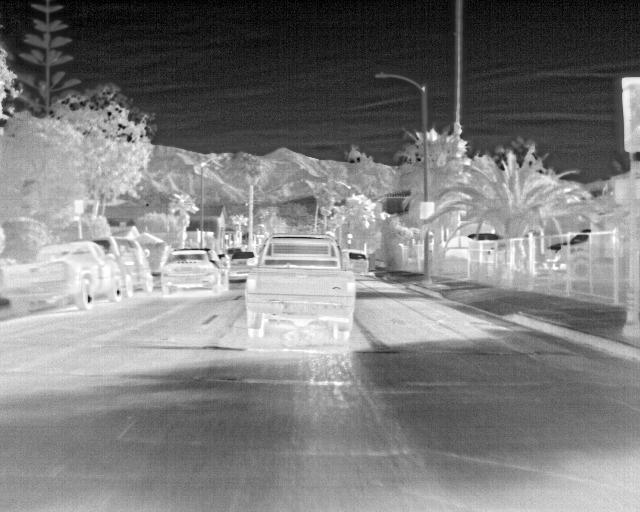car: (244, 234, 356, 341), (0, 240, 124, 312), (158, 248, 228, 299), (94, 236, 133, 302), (116, 239, 154, 293), (229, 251, 256, 273), (345, 250, 367, 276)
